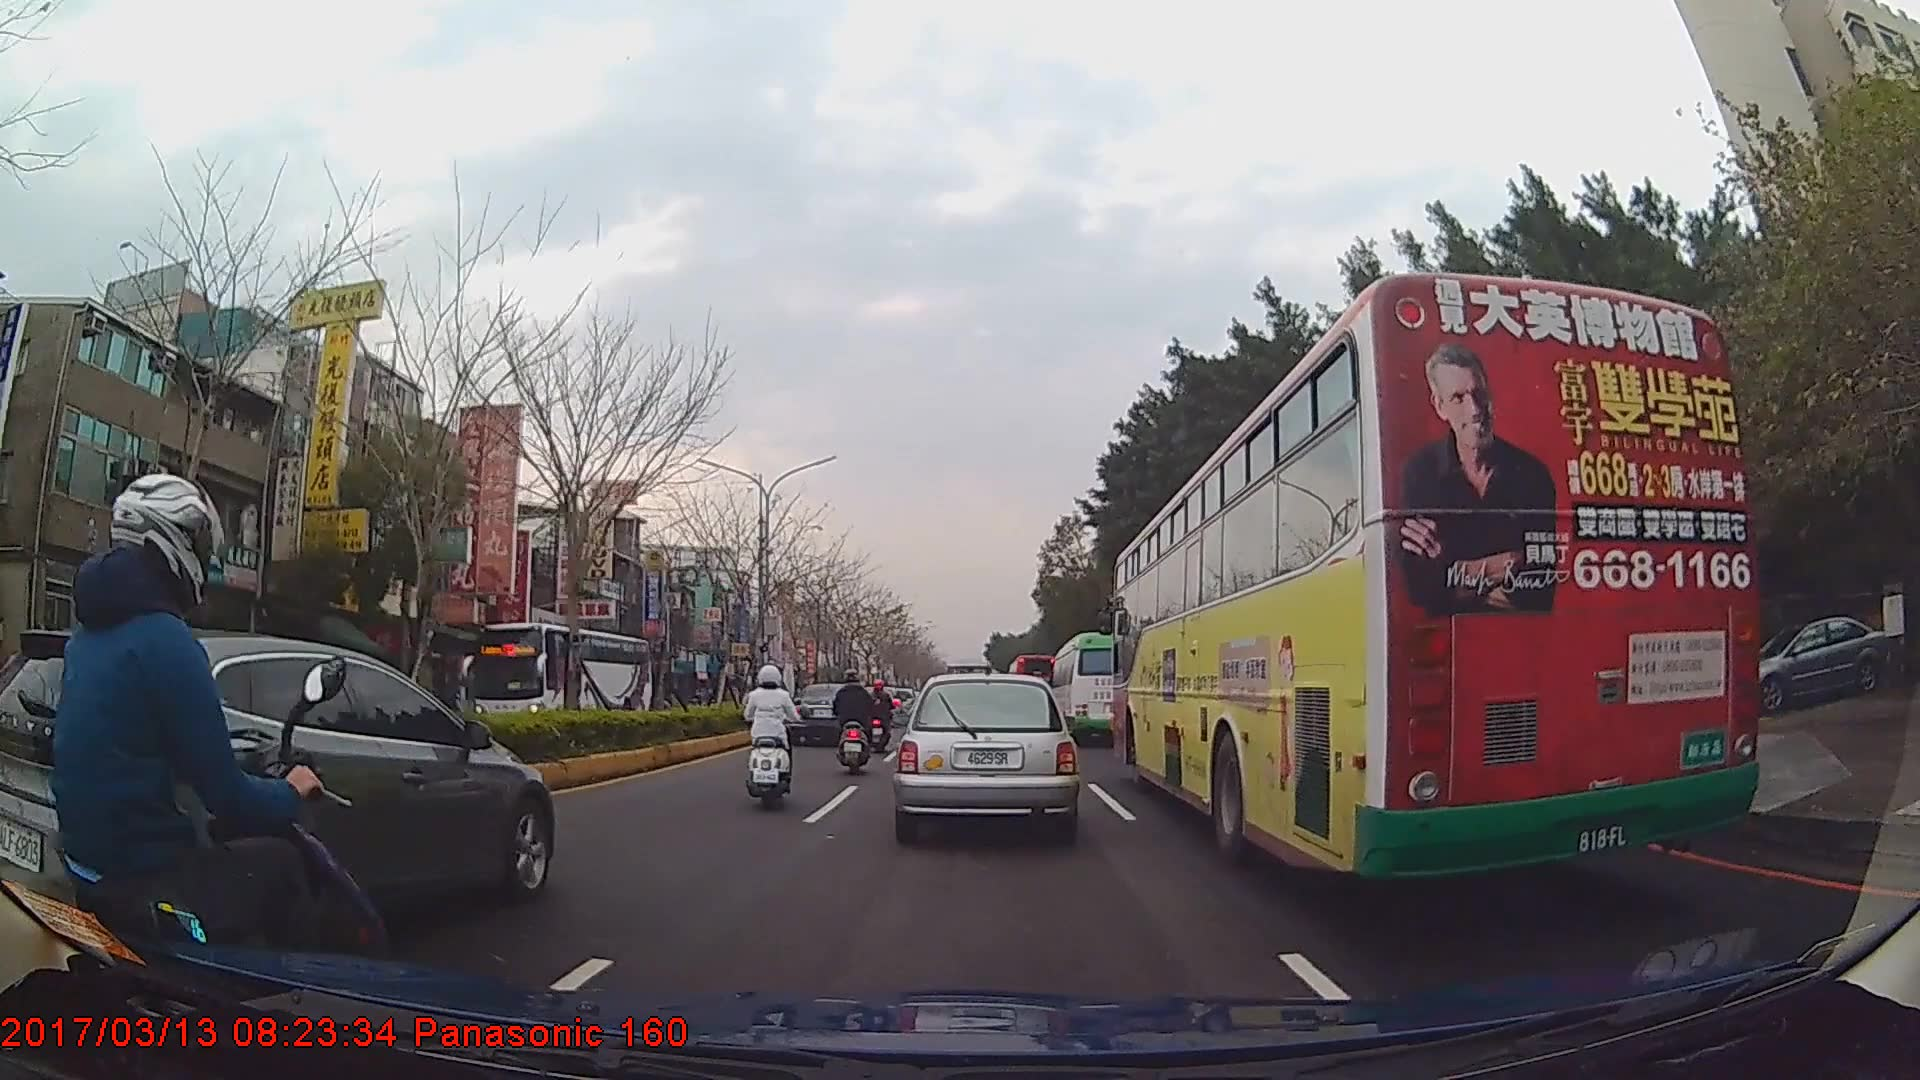rider: (1, 470, 386, 1059), (740, 661, 801, 805), (828, 668, 883, 762), (867, 678, 893, 751)
vehicle: (1107, 271, 1760, 884), (0, 626, 560, 957), (897, 671, 1076, 840), (469, 619, 652, 739), (1049, 630, 1144, 746), (789, 681, 869, 747), (1002, 650, 1057, 724)
